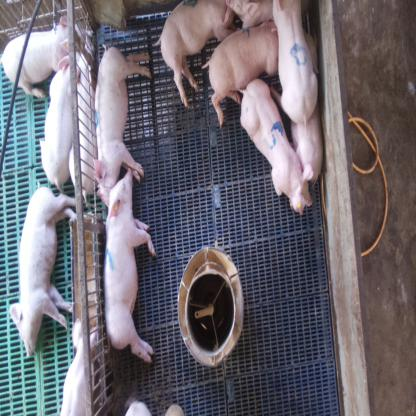5: (264, 121, 284, 149)
N-A: (290, 43, 308, 64)
